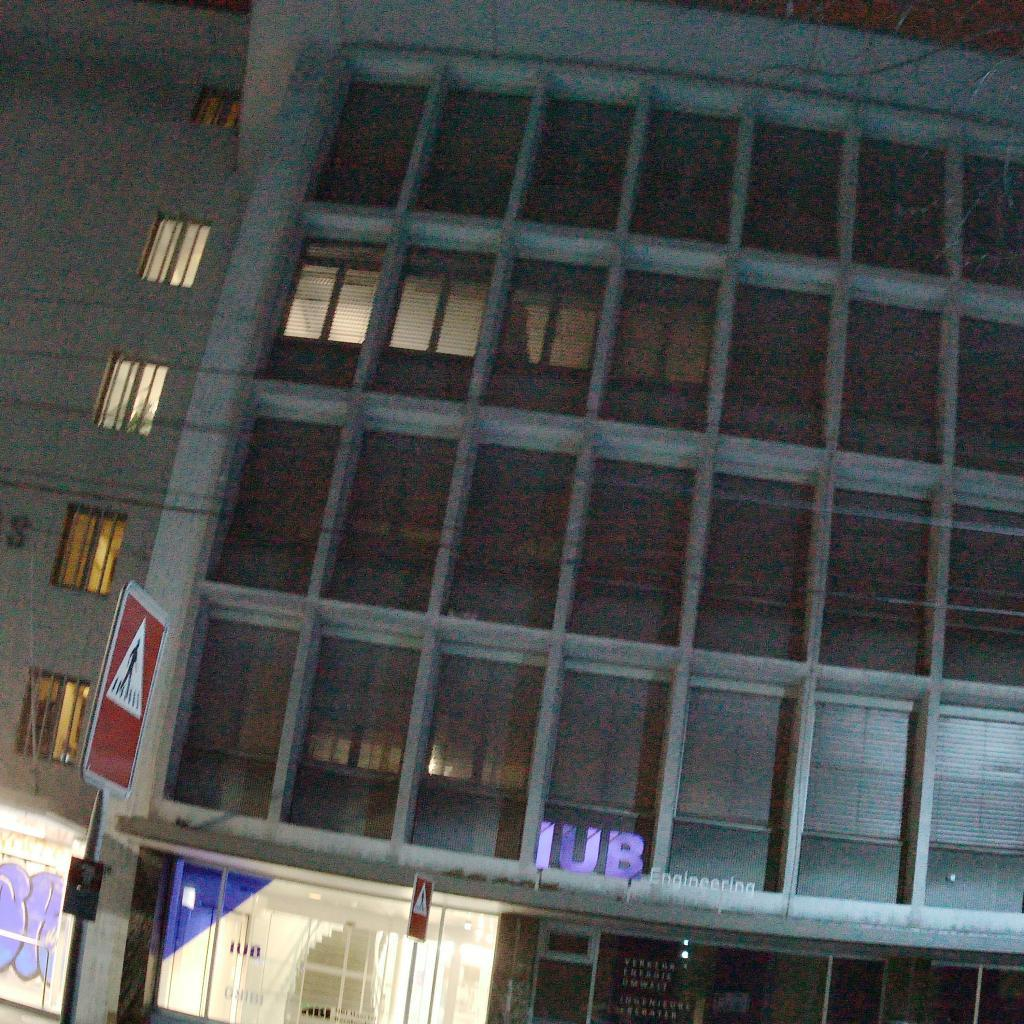facade: (0, 0, 1024, 1024)
shop: (408, 890, 1024, 1024), (104, 837, 414, 1024), (0, 805, 83, 1024)
traffic-infrastructure: (59, 581, 170, 1024), (402, 872, 435, 1024)
window: (535, 670, 672, 881), (409, 654, 546, 861), (288, 635, 422, 841), (665, 685, 795, 893), (172, 619, 301, 820), (444, 444, 579, 631), (566, 457, 698, 647), (327, 429, 460, 614), (796, 700, 916, 903), (213, 414, 345, 597), (692, 472, 818, 662), (818, 486, 931, 676), (366, 245, 499, 404), (481, 257, 610, 418), (597, 269, 720, 434), (924, 716, 1024, 914), (260, 236, 389, 389), (718, 283, 834, 449), (836, 298, 941, 464), (630, 108, 740, 247), (941, 503, 1024, 686), (313, 80, 430, 207), (417, 90, 531, 220), (523, 100, 635, 232), (742, 122, 842, 259), (854, 136, 945, 276), (953, 313, 1024, 478), (11, 665, 92, 768), (47, 499, 130, 598), (963, 155, 1024, 289), (90, 354, 170, 439), (134, 212, 214, 289), (186, 81, 243, 130)
